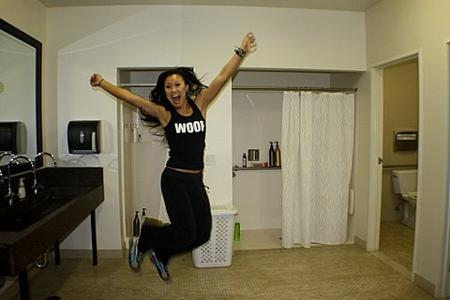person: (90, 32, 257, 281)
